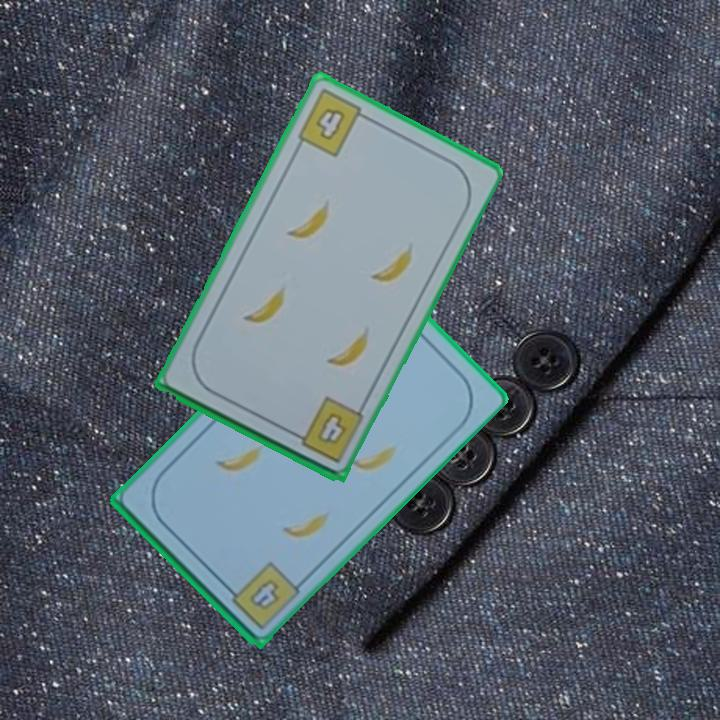4b: (293, 85, 373, 160), (286, 393, 363, 466), (245, 574, 283, 613)
